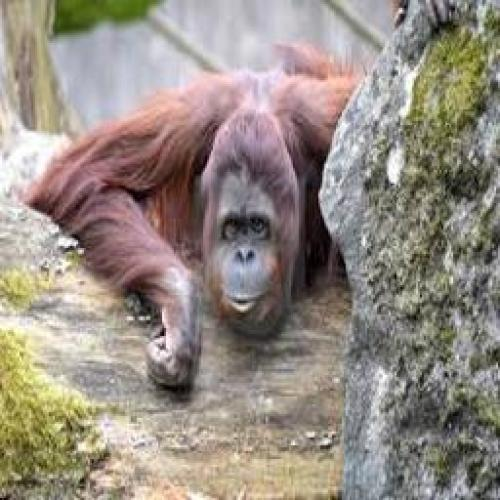orangutan-endangered: (30, 55, 374, 390)
